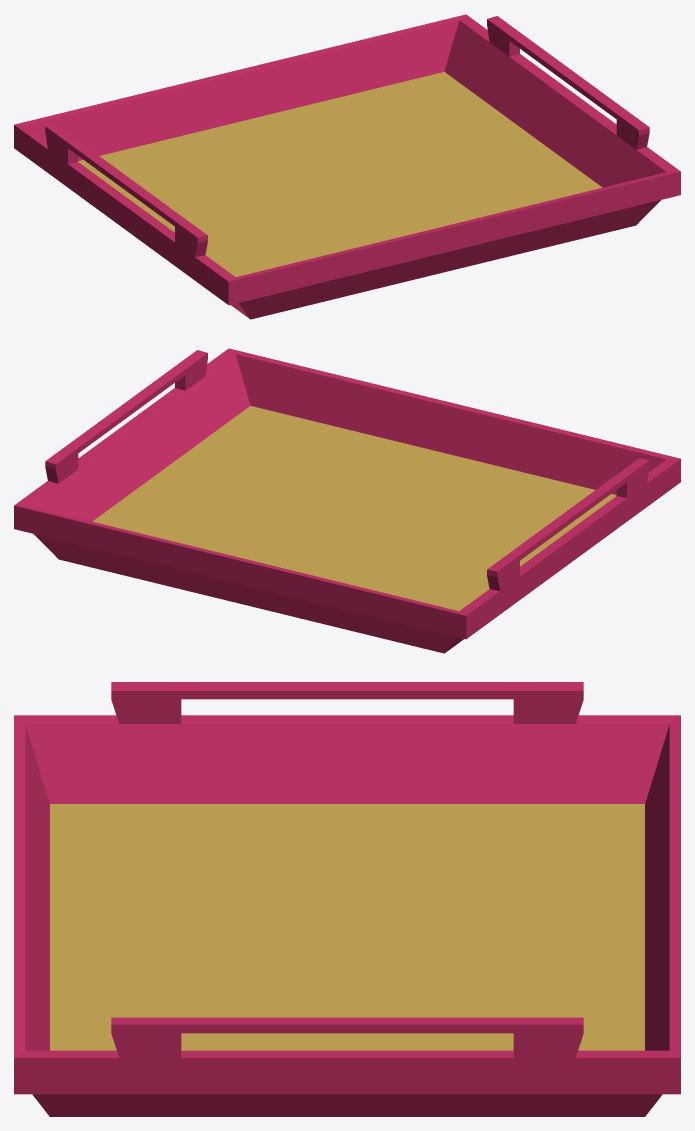
Rendered from Restaurant_Empanado_NoTextures.fbx.
3 renders of one model, top to bottom at view 1: azimuth 30°, elevation 25°; view 2: azimuth 150°, elevation 25°; view 3: azimuth 270°, elevation 25°, orthographic. The views are drawn at different scales.
Parts seen in each view (by area): view 1: Cube; view 2: Cube; view 3: Cube.
Part boxes in pixels (x1,y1,x2,y2): Cube: (14,14,680,319); Cube: (14,348,680,653); Cube: (14,682,680,1116).
Size of the model in its own units: 175 by 27.95 by 144.
